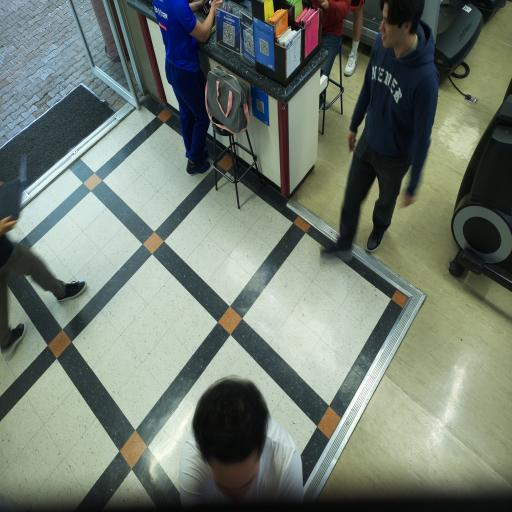person: (325, 0, 439, 261), (179, 378, 303, 506), (0, 218, 86, 356), (154, 0, 222, 174), (313, 0, 350, 76), (344, 0, 364, 76)
